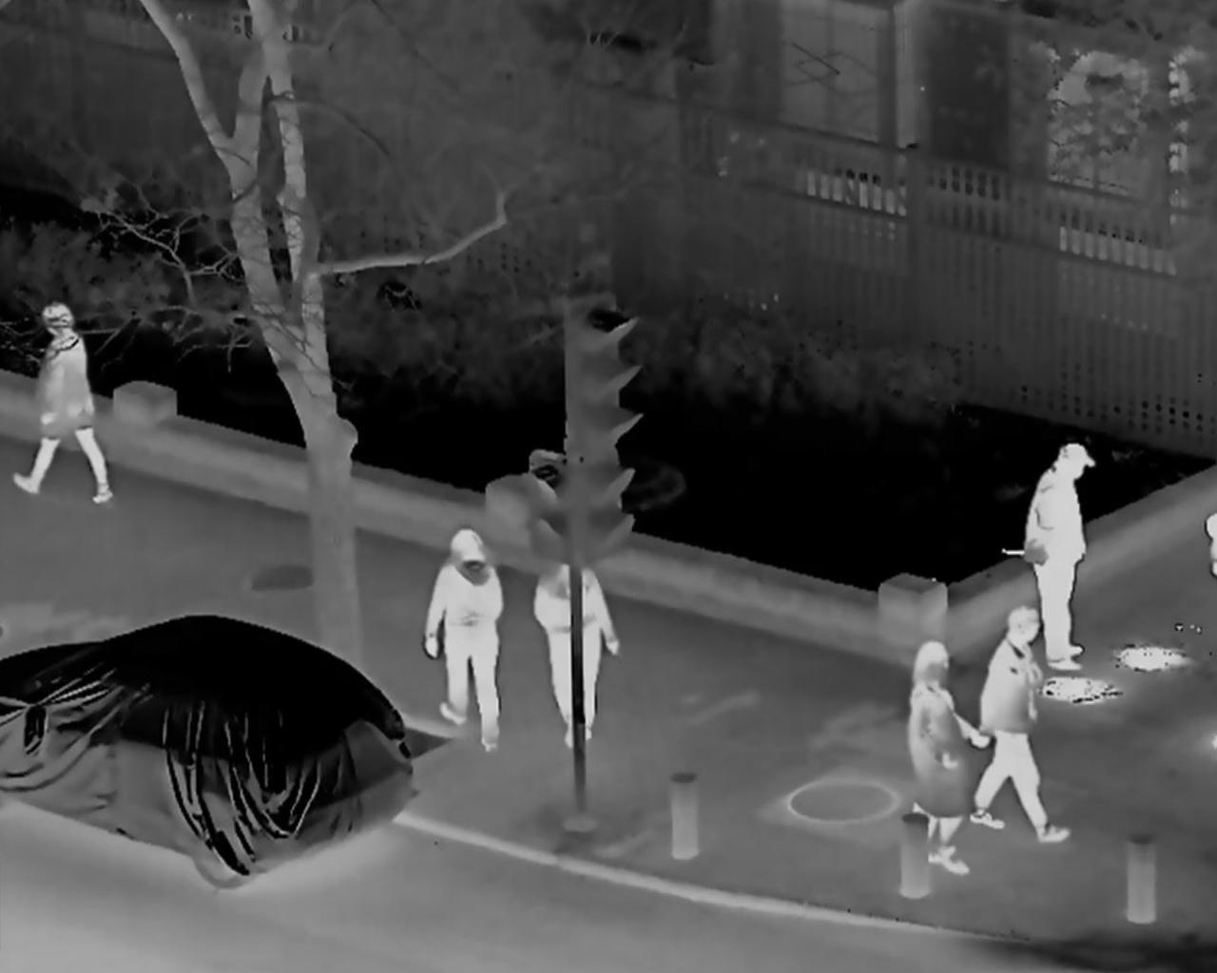person: (11, 297, 119, 507), (980, 606, 1066, 848), (531, 529, 617, 745), (425, 530, 502, 752), (907, 640, 977, 876), (1027, 443, 1091, 670)
